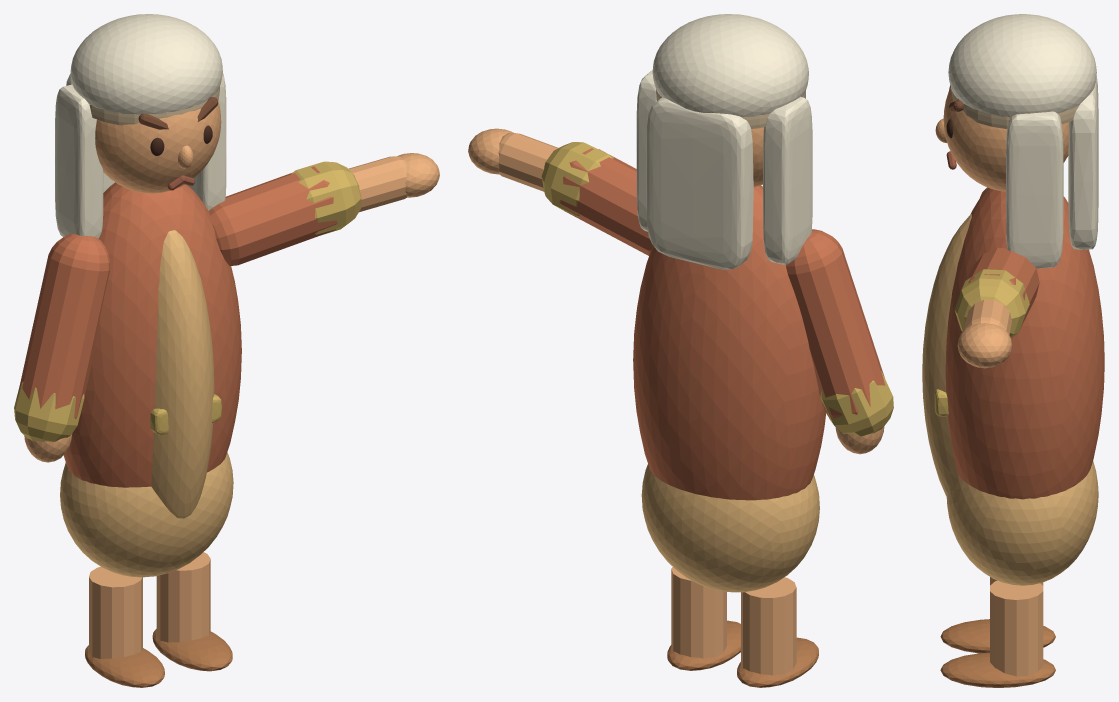
File: plaintiff.glb
3 views of the same model, side by side, from view 1: azimuth 30°, elevation 25°; view 2: azimuth 150°, elevation 25°; view 3: azimuth 270°, elevation 25° (orthographic). The views are drawn at different scales.
Parts seen in each view (by area): view 1: Robe, Inner, Robe_Low, Scarf_Top, Sleeve_Dn, Sleeve_Point, Head, Scarf_Side_R, Leg_R, Leg_L, Cuff_Point, Cuff_Dn (+8 smaller); view 2: Robe, Scarf_Back, Robe_Low, Scarf_Top, Sleeve_Dn, Scarf_Side_R, Leg_R, Sleeve_Point, Leg_L, Cuff_Point, Cuff_Dn, Fore_Point (+5 smaller); view 3: Robe, Scarf_Top, Robe_Low, Scarf_Side_L, Inner, Leg_L, Scarf_Back, Head, Cuff_Point, Sandal_L, Hand_Point, Sleeve_Point (+4 smaller).
Boxes of the visible parts, x1,y1,x2,y2 form: Robe: (63, 182, 241, 487); Inner: (151, 230, 214, 518); Robe_Low: (60, 452, 233, 577); Scarf_Top: (70, 14, 222, 114); Sleeve_Dn: (16, 233, 110, 418); Sleeve_Point: (208, 166, 337, 265); Head: (95, 101, 221, 193); Scarf_Side_R: (55, 84, 103, 238); Leg_R: (89, 566, 142, 658); Leg_L: (156, 552, 210, 642); Cuff_Point: (291, 161, 361, 234); Cuff_Dn: (14, 382, 84, 441); Robe: (633, 185, 825, 500); Scarf_Back: (646, 97, 753, 269); Robe_Low: (641, 464, 819, 592); Scarf_Top: (652, 14, 808, 116); Sleeve_Dn: (786, 229, 885, 418); Scarf_Side_R: (763, 96, 812, 265); Leg_R: (741, 577, 796, 675); Sleeve_Point: (559, 148, 652, 255); Leg_L: (671, 567, 726, 658); Cuff_Point: (541, 142, 613, 217); Cuff_Dn: (820, 371, 893, 436); Fore_Point: (498, 132, 558, 191); Robe: (945, 188, 1104, 499); Scarf_Top: (948, 14, 1096, 117); Robe_Low: (946, 461, 1098, 585); Scarf_Side_L: (1006, 111, 1063, 268); Inner: (922, 214, 971, 497); Leg_L: (990, 580, 1043, 676); Scarf_Back: (1068, 76, 1098, 249); Head: (943, 88, 1068, 191); Cuff_Point: (954, 269, 1029, 337); Sandal_L: (940, 652, 1055, 687); Hand_Point: (957, 323, 1012, 368); Sleeve_Point: (960, 248, 1039, 324).
Size of the model in its own units: 1.18 by 1.73 by 0.4474.
